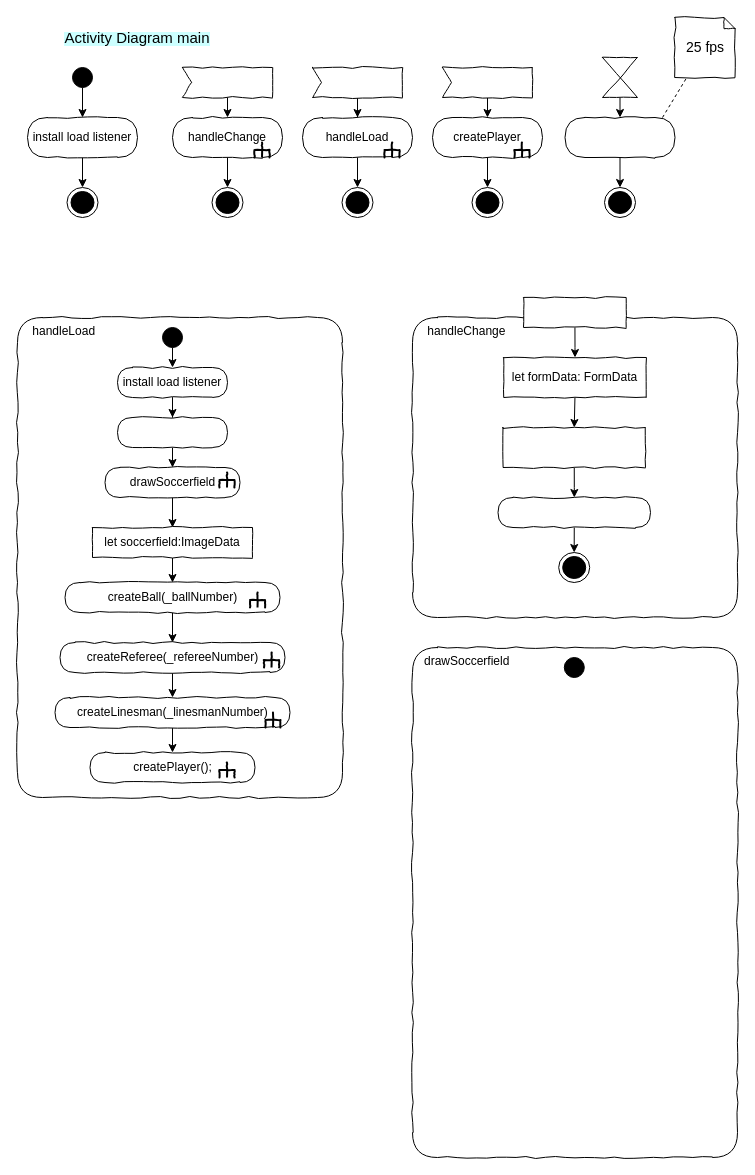
Image size: 755x1175. Some labels were removed from this diagram. The shapes that lost their labels are listed below. From the top down, each one's centre as x and y in pixels, then its label:
point (227, 82): change
point (357, 82): load
point (487, 82): click
point (619, 137): update
point (574, 312): _event: Event
point (172, 432): get crc2
point (574, 447): let entry of formData
point (573, 512): push formData in player
